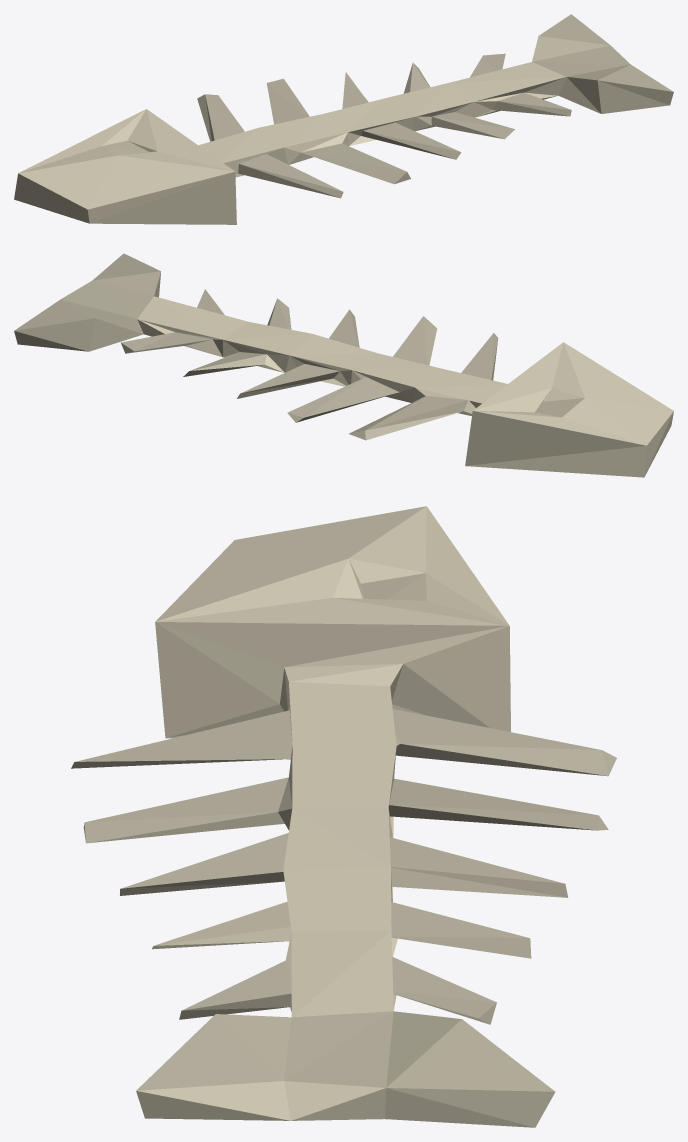
Rendered from FishSkeleton_01.glb.
The picture shows the model from 3 angles, top to bottom: view 1: azimuth 30°, elevation 25°; view 2: azimuth 150°, elevation 25°; view 3: azimuth 270°, elevation 25°; orthographic projection. The views are drawn at different scales.
Parts seen in each view (by area): view 1: FishSkeleton_01; view 2: FishSkeleton_01; view 3: FishSkeleton_01.
Part boxes in pixels (bbox=[...]): FishSkeleton_01: bbox=[14, 14, 673, 224]; FishSkeleton_01: bbox=[14, 253, 673, 477]; FishSkeleton_01: bbox=[71, 506, 616, 1127].
Size of what is drawn, in the model's own units: 0.3875 by 0.0362 by 0.1556.
1 material, 1 textured.
